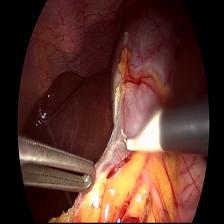Grasper: (15, 131, 98, 201)
Hook: (119, 110, 165, 158)
